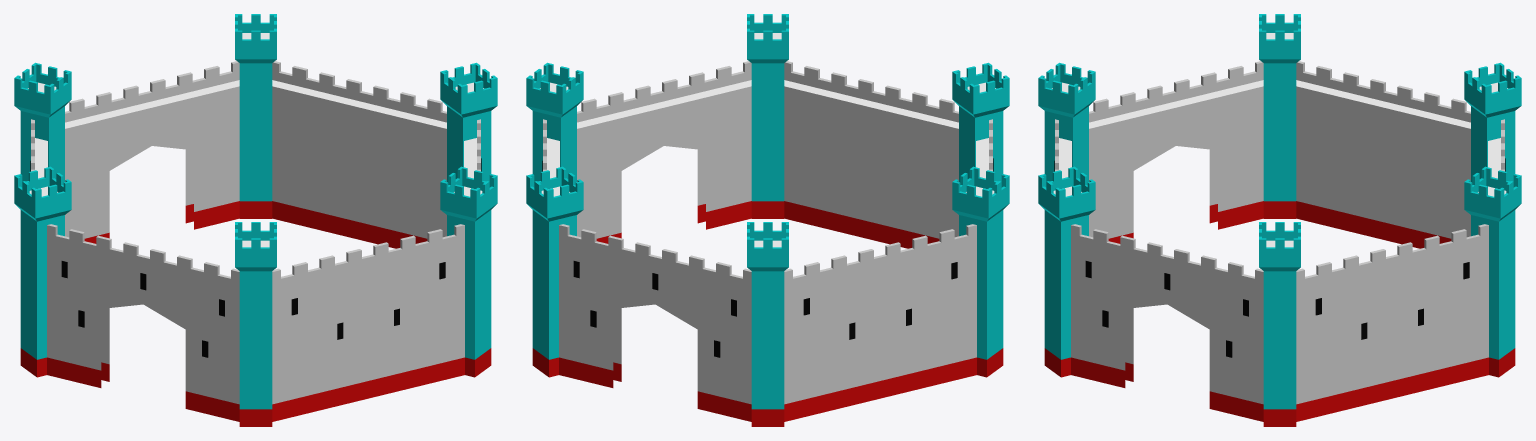
File: FBX_Wall.fbx
The picture shows the model from 3 angles, left to right: view 1: azimuth 30°, elevation 25°; view 2: azimuth 150°, elevation 25°; view 3: azimuth 270°, elevation 25°; orthographic projection.
Parts seen in each view (by area): view 1: Wall; view 2: Wall; view 3: Wall.
Part boxes in pixels (<box>): Wall: <box>14,14,497,426</box>; Wall: <box>526,14,1009,426</box>; Wall: <box>1038,14,1521,426</box>.
Bounding box in the file's own units: 823 × 322 × 745.
